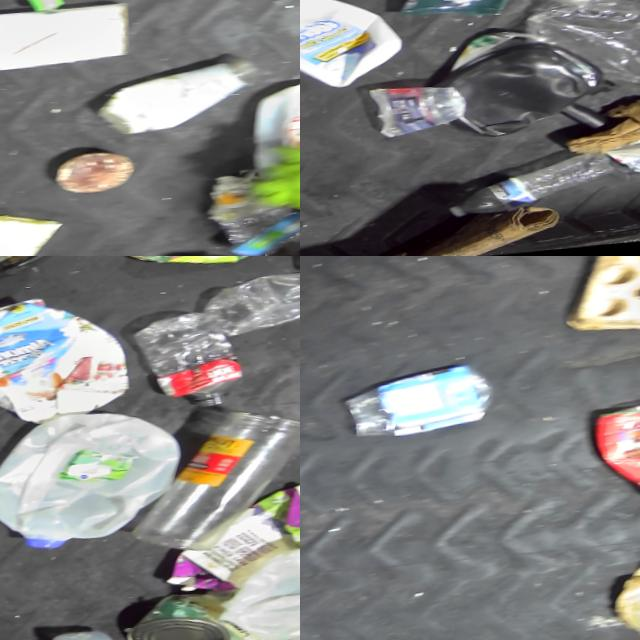can: (105, 551, 300, 640)
milk_jug: (0, 407, 196, 563), (252, 83, 300, 166)
non_white_jug: (583, 401, 640, 530)
plastic_bottle: (124, 316, 253, 427), (545, 0, 640, 116), (454, 159, 622, 218), (188, 272, 300, 340), (547, 0, 640, 37)
